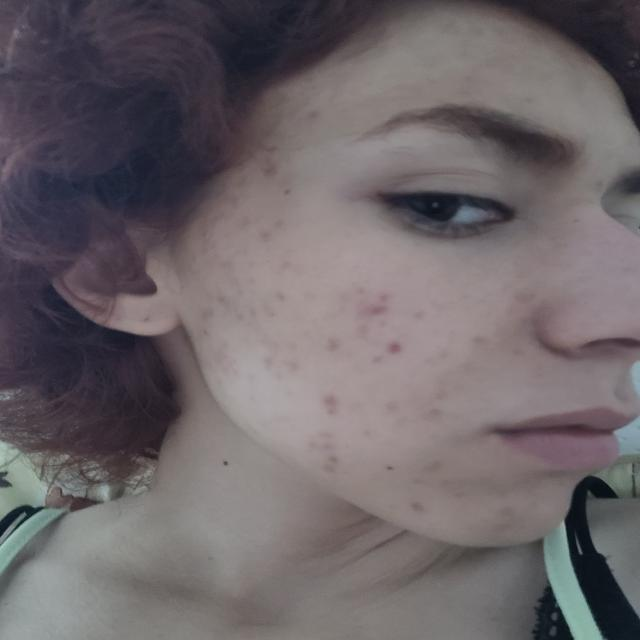acne: (304, 430, 340, 452), (256, 218, 286, 242), (358, 302, 390, 322), (319, 392, 340, 420), (212, 338, 232, 366), (322, 453, 342, 480), (427, 390, 445, 420), (334, 286, 366, 302), (232, 306, 257, 326), (422, 456, 446, 476), (465, 332, 490, 350), (200, 228, 216, 256), (256, 354, 276, 376), (303, 106, 323, 126), (384, 339, 406, 356), (406, 498, 428, 514), (324, 336, 342, 354), (259, 302, 277, 320), (236, 214, 253, 232), (384, 397, 402, 413), (216, 290, 232, 308), (493, 504, 516, 516), (197, 308, 214, 324), (258, 163, 278, 176), (283, 359, 301, 373), (376, 292, 394, 305), (357, 424, 373, 438), (288, 340, 306, 352), (369, 354, 384, 368), (406, 474, 424, 485), (460, 362, 476, 374), (436, 350, 454, 360), (281, 258, 295, 270), (275, 290, 286, 304), (230, 196, 241, 208), (414, 309, 426, 319)
